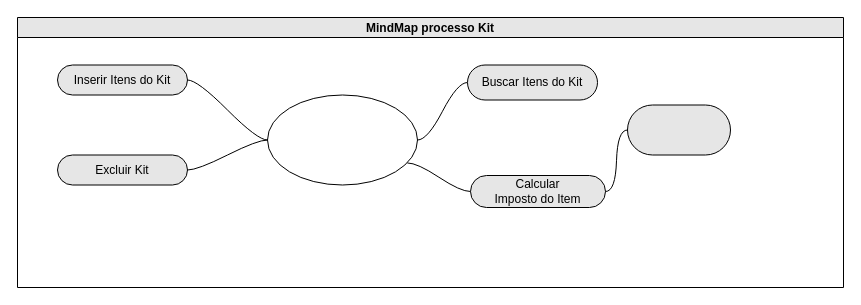
This 861x305 diagram has some shape labels left out. Here are the shapes that lost their labels. From the top down, the box of each, then its label:
(266, 94, 418, 185): Selecionar o Kit de Vendas
(626, 104, 730, 155): Recalcular Imposto da Nota
